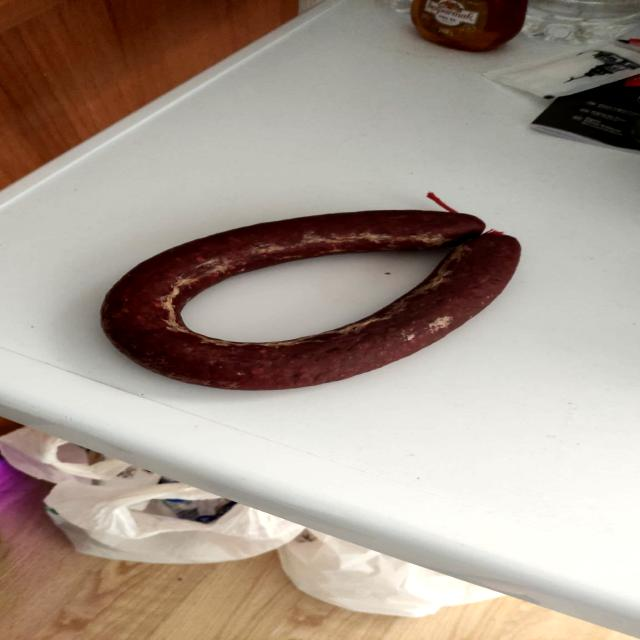sausage: (85, 190, 561, 396)
